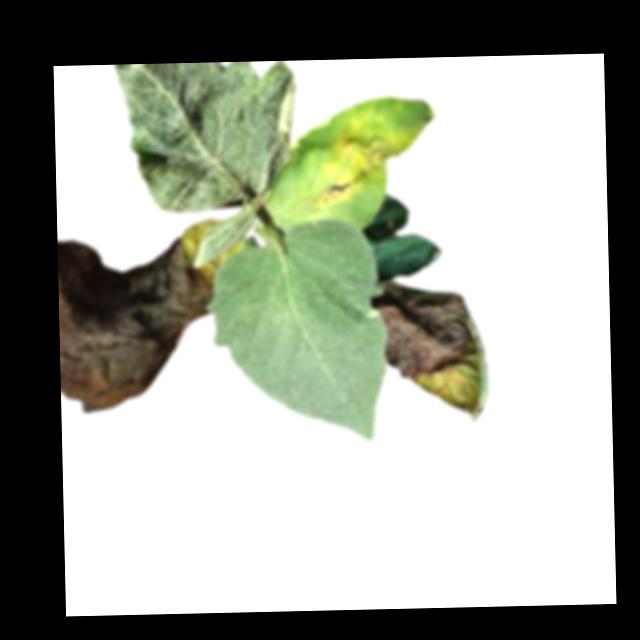Late_blight: (58, 233, 218, 415), (372, 276, 491, 425), (311, 124, 403, 206)
